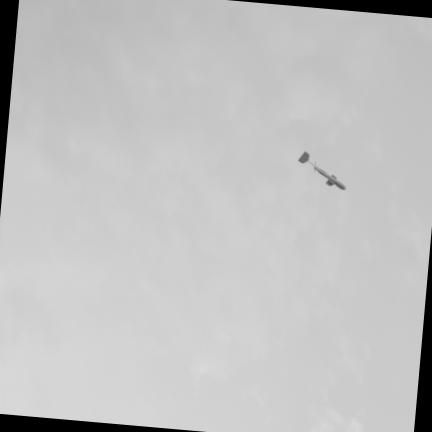Shahed: (298, 152, 345, 189)
